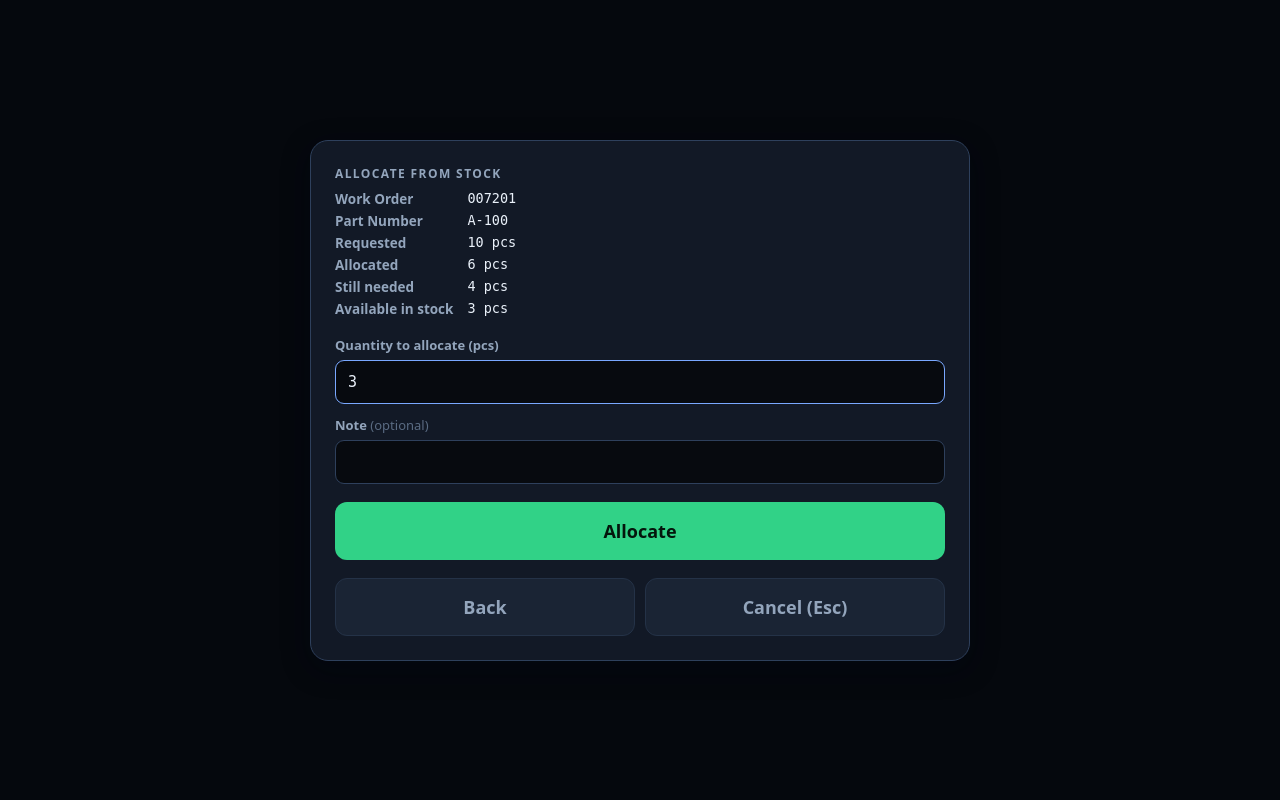
Test: FC-3: with no more stock than the line needs, no beyond-demand step is offered and the stock caps the entry
Replace the text in the field labelled "Quantity to allocate (pcs)" with "4": (640, 382) [335,360,945,404]
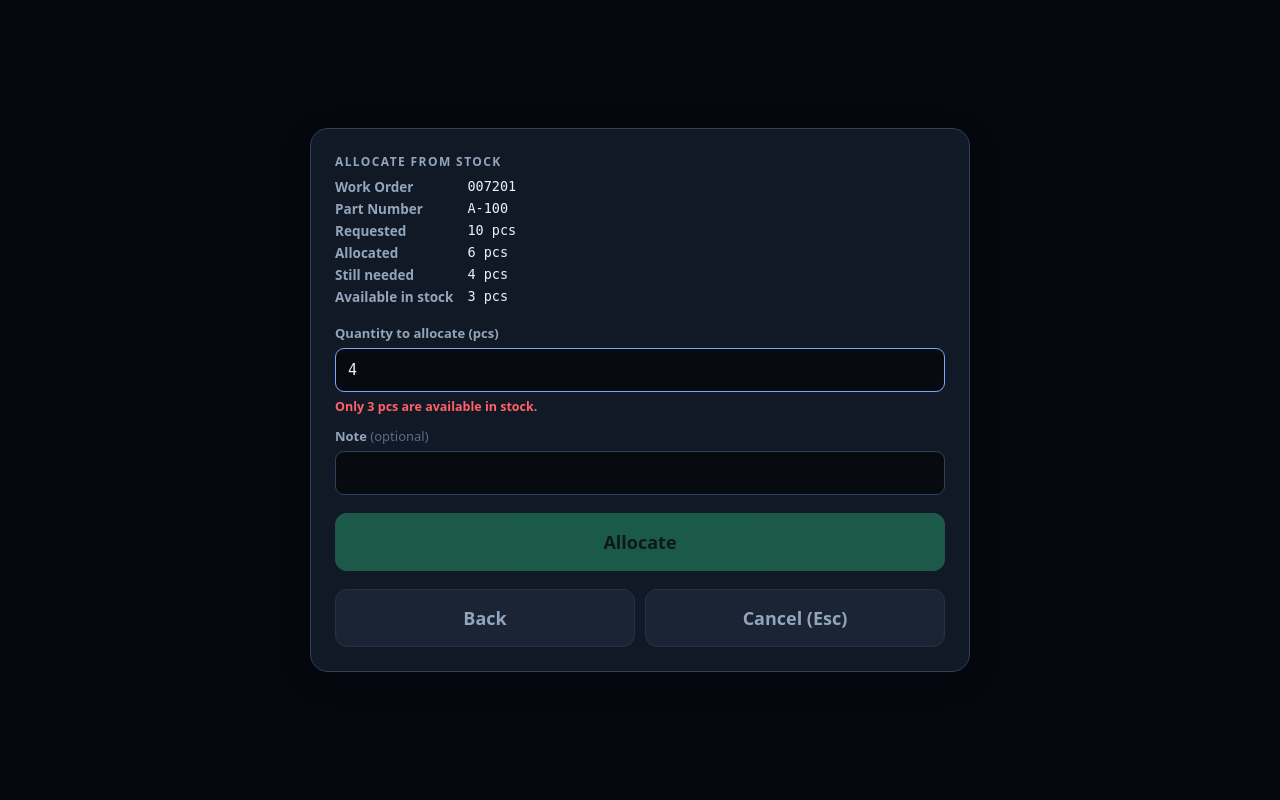
Expected: the text "Only 3 pcs are available in stock." is shown, [335,398,537,415]
Expected: the button "Allocate" is disabled, [335,513,945,571]
